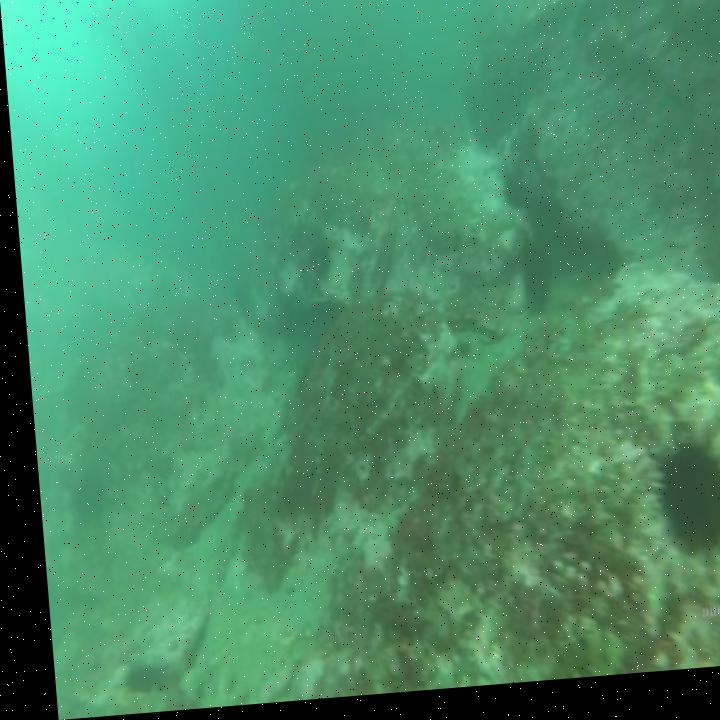echinus: (642, 444, 720, 571), (512, 242, 551, 331), (498, 168, 525, 223)
